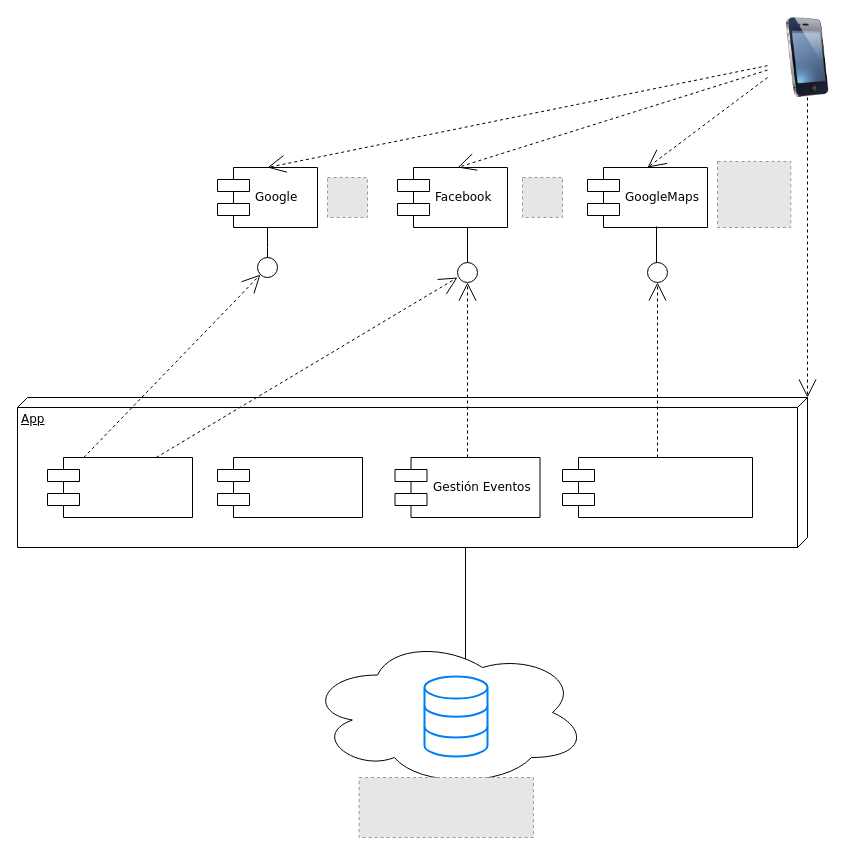
The diagram is 865 pixels wide and 855 high, and some of its shapes have lost their labels. Grey dashed boxes stand in for pictures. The centre of each missing label's shape, as x and y in pixels:
Autenticación: point (119, 487)
Gestión Geolocalización: point (657, 487)
Gestión Usuarios: point (289, 487)
